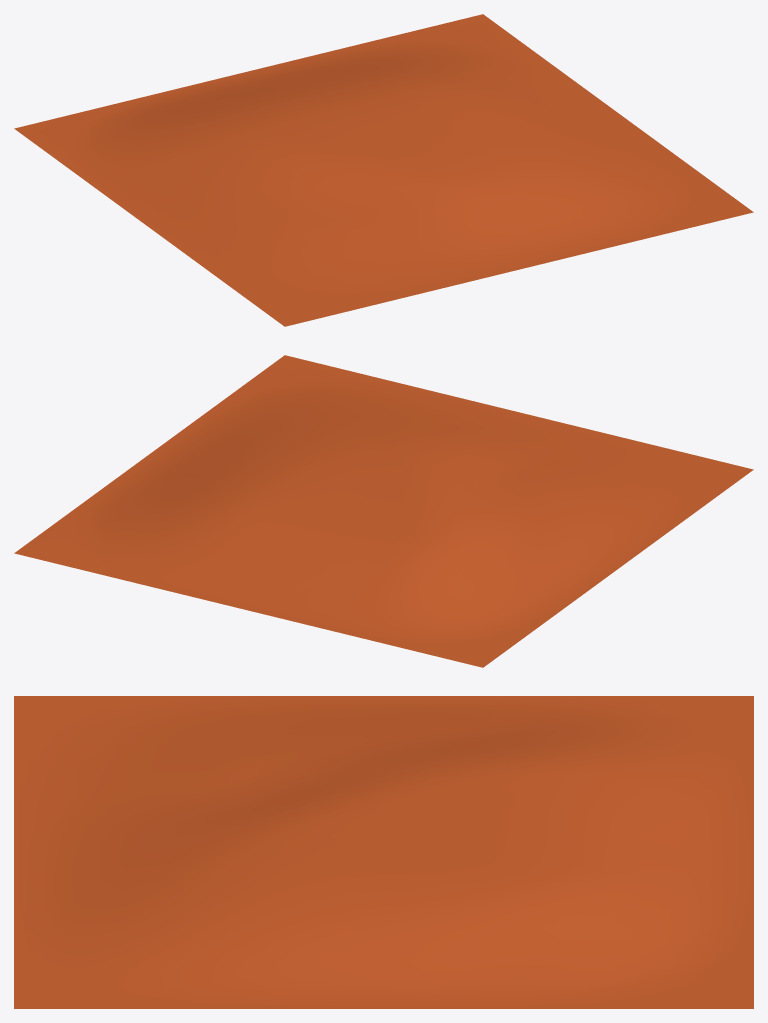
The model's file is landscape_Hills.fbx.
3 renders of one model, top to bottom at view 1: azimuth 30°, elevation 25°; view 2: azimuth 150°, elevation 25°; view 3: azimuth 270°, elevation 25°, orthographic. The views are drawn at different scales.
Parts seen in each view (by area): view 1: landscape_Hills; view 2: landscape_Hills; view 3: landscape_Hills.
Part boxes in pixels (x1,y1,x2,y2): landscape_Hills: [14, 14, 753, 326]; landscape_Hills: [14, 355, 753, 667]; landscape_Hills: [14, 696, 753, 1008].
Size of the model in its own units: 125 by 5.94 by 125.
